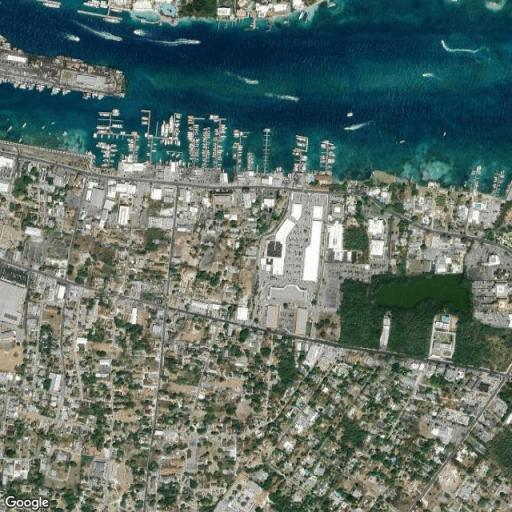ship: (82, 26, 121, 40), (237, 72, 259, 86), (439, 35, 454, 55), (342, 122, 368, 132), (274, 93, 300, 103), (419, 69, 439, 81), (168, 38, 200, 45), (67, 34, 81, 42), (104, 18, 121, 23), (395, 139, 407, 146), (44, 3, 60, 8), (51, 87, 60, 95), (169, 116, 173, 133), (164, 124, 169, 137), (6, 126, 13, 133), (442, 131, 448, 138), (22, 122, 27, 130), (297, 137, 306, 141), (97, 126, 109, 129), (161, 125, 164, 136), (99, 113, 110, 116), (296, 144, 306, 147), (301, 156, 307, 161), (97, 130, 107, 133), (293, 152, 300, 156), (113, 124, 122, 127), (18, 138, 23, 143), (41, 125, 46, 130), (142, 122, 148, 126), (141, 117, 148, 120), (113, 109, 119, 112), (177, 141, 180, 146), (165, 139, 167, 144)
